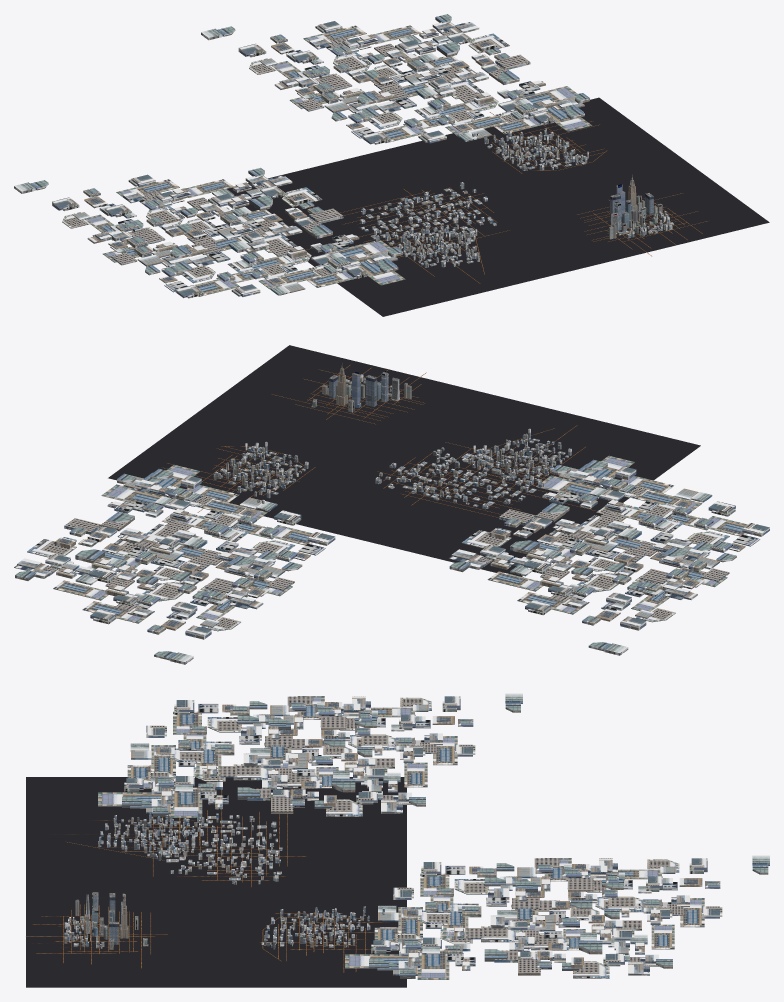
File: env.glb
The picture shows the model from 3 angles, top to bottom: view 1: azimuth 30°, elevation 25°; view 2: azimuth 150°, elevation 25°; view 3: azimuth 270°, elevation 25°; orthographic projection. The views are drawn at different scales.
Parts seen in each view (by area): view 1: 立方体.026, 平面; view 2: 立方体.026, 平面; view 3: 立方体.026, 平面.
Boxes of the visible parts, bbox=[...] form: 立方体.026: bbox=[14, 14, 592, 298]; 平面: bbox=[227, 97, 769, 316]; 立方体.026: bbox=[14, 428, 769, 664]; 平面: bbox=[108, 345, 700, 576]; 立方体.026: bbox=[98, 693, 769, 979]; 平面: bbox=[26, 777, 406, 987].
Bounding box in the file's own units: 38.83 × 3.2 × 42.74.
Materials: 6 (4 with a texture image).
